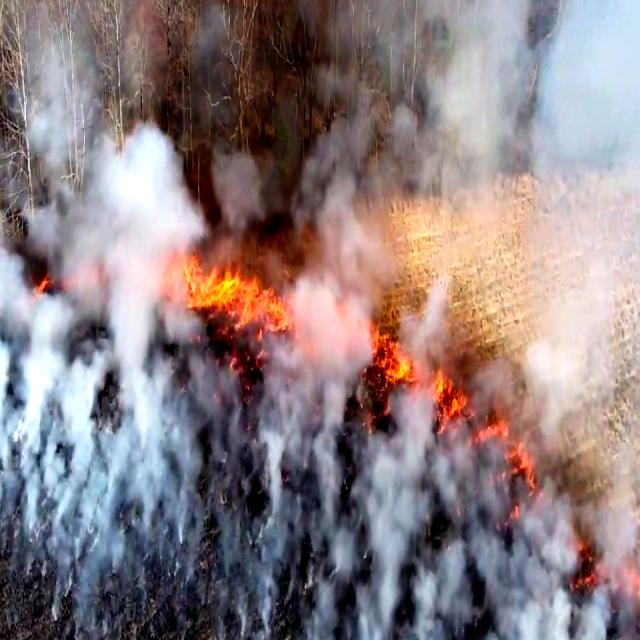fire: (203, 243, 300, 367)
smoke: (390, 0, 640, 640), (0, 172, 193, 640), (237, 379, 320, 640), (350, 409, 443, 640), (474, 498, 564, 640)
